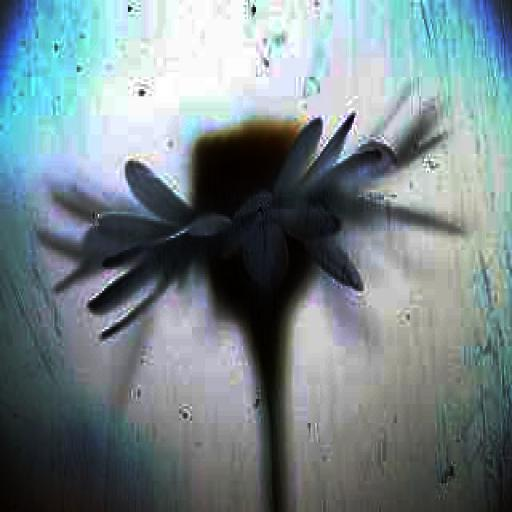daisy: (58, 118, 440, 291)
